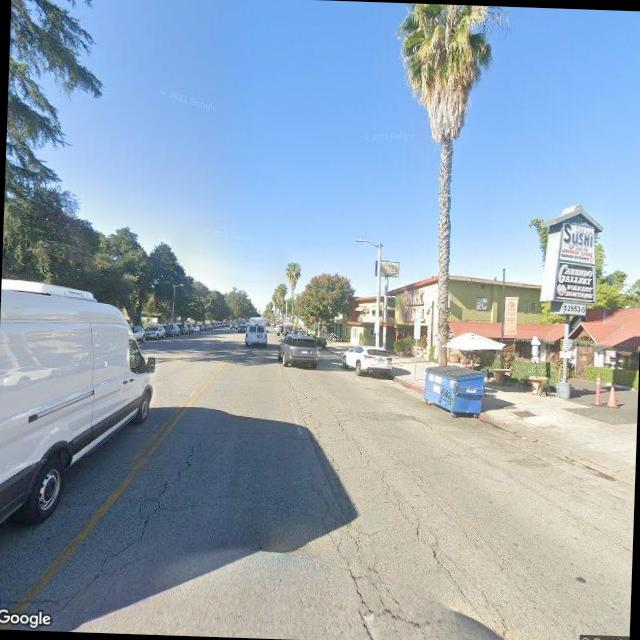crack: (271, 399, 521, 640)
pothole: (62, 434, 198, 610)
